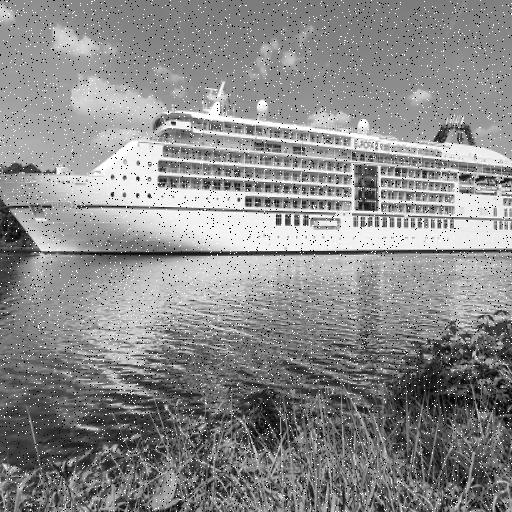cruises: (1, 80, 512, 262)
